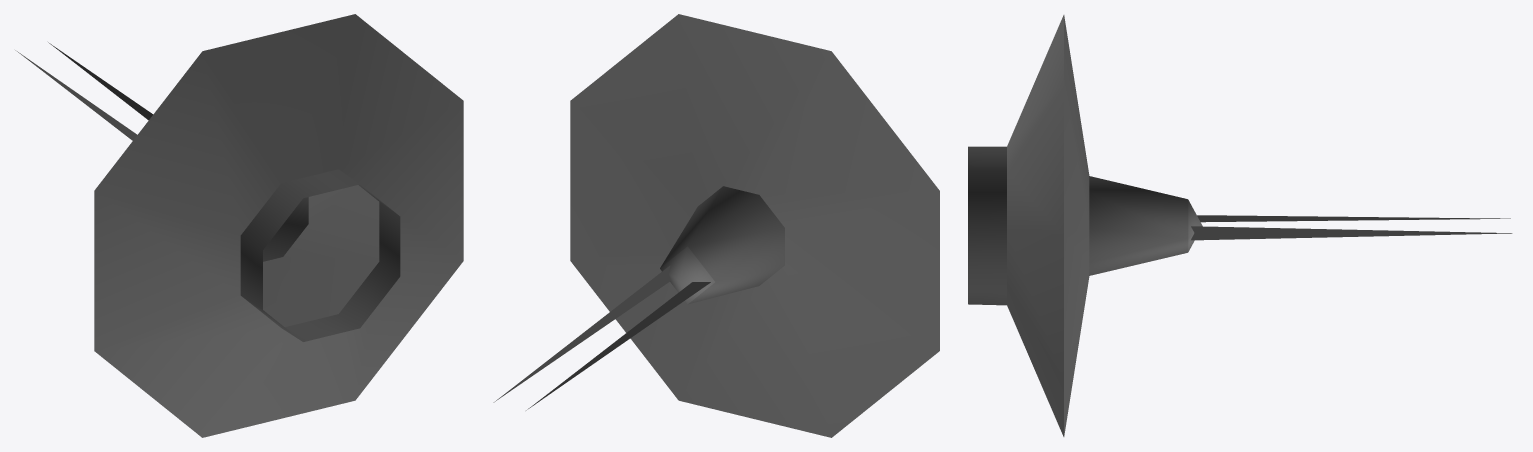
The model's file is stat_bottom2.glb.
The picture shows the model from 3 angles, left to right: view 1: azimuth 30°, elevation 25°; view 2: azimuth 150°, elevation 25°; view 3: azimuth 270°, elevation 25°; orthographic projection. The views are drawn at different scales.
Visible parts, largest first — view 1: group_19; view 2: group_19; view 3: group_19.
Boxes of the visible parts, <box> form: group_19: <box>15,14,463,437</box>; group_19: <box>493,14,939,437</box>; group_19: <box>968,15,1512,436</box>.
Bounding box in the file's own units: 20335 × 20340 × 28572.
2 materials, 2 textured.
